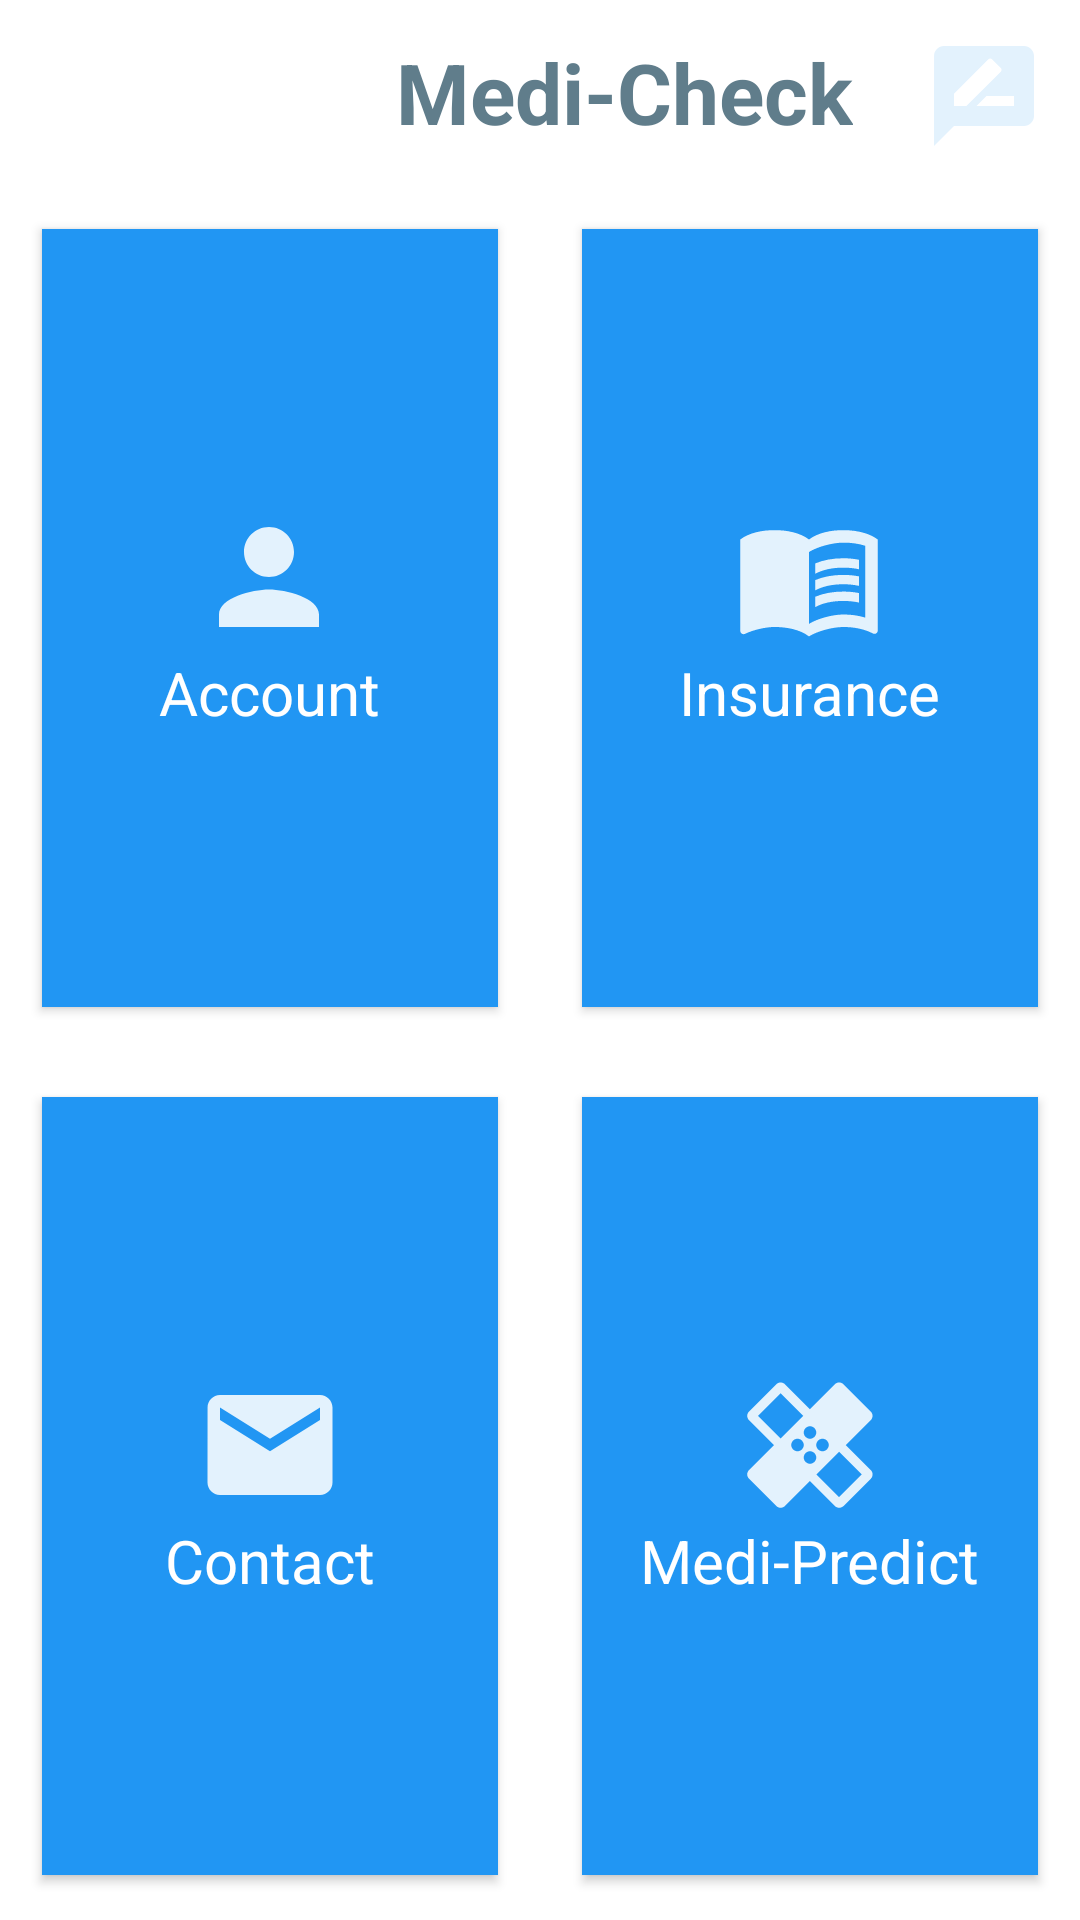

Where icons sit on this 1080*1920 app screen, as {"left": x1, "top": y1, "right": x2, "bottom": y2}:
review: {"left": 934, "top": 46, "right": 1034, "bottom": 145}
